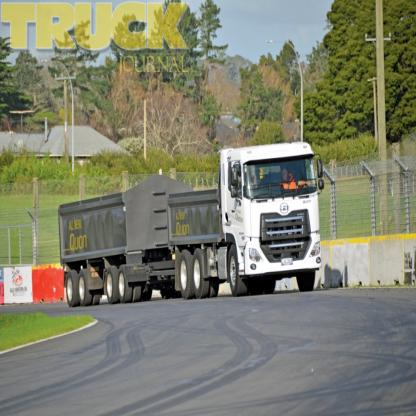dump_truck: (164, 122, 333, 307)
